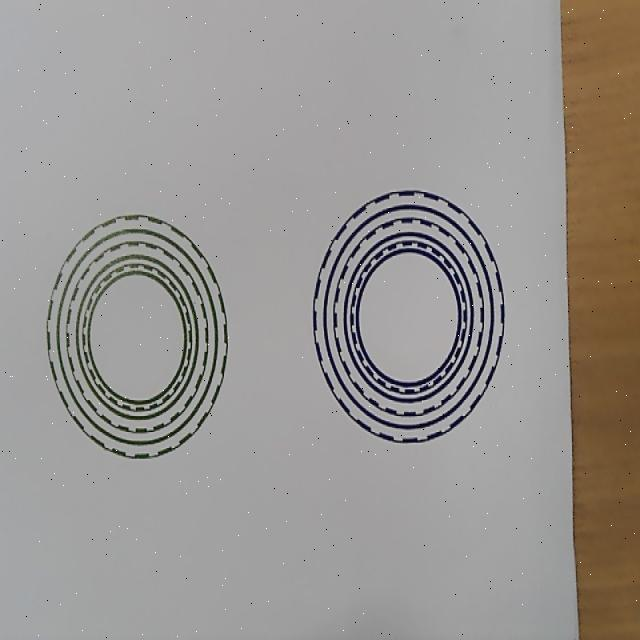b: (313, 189, 505, 444)
g: (46, 214, 229, 458)
